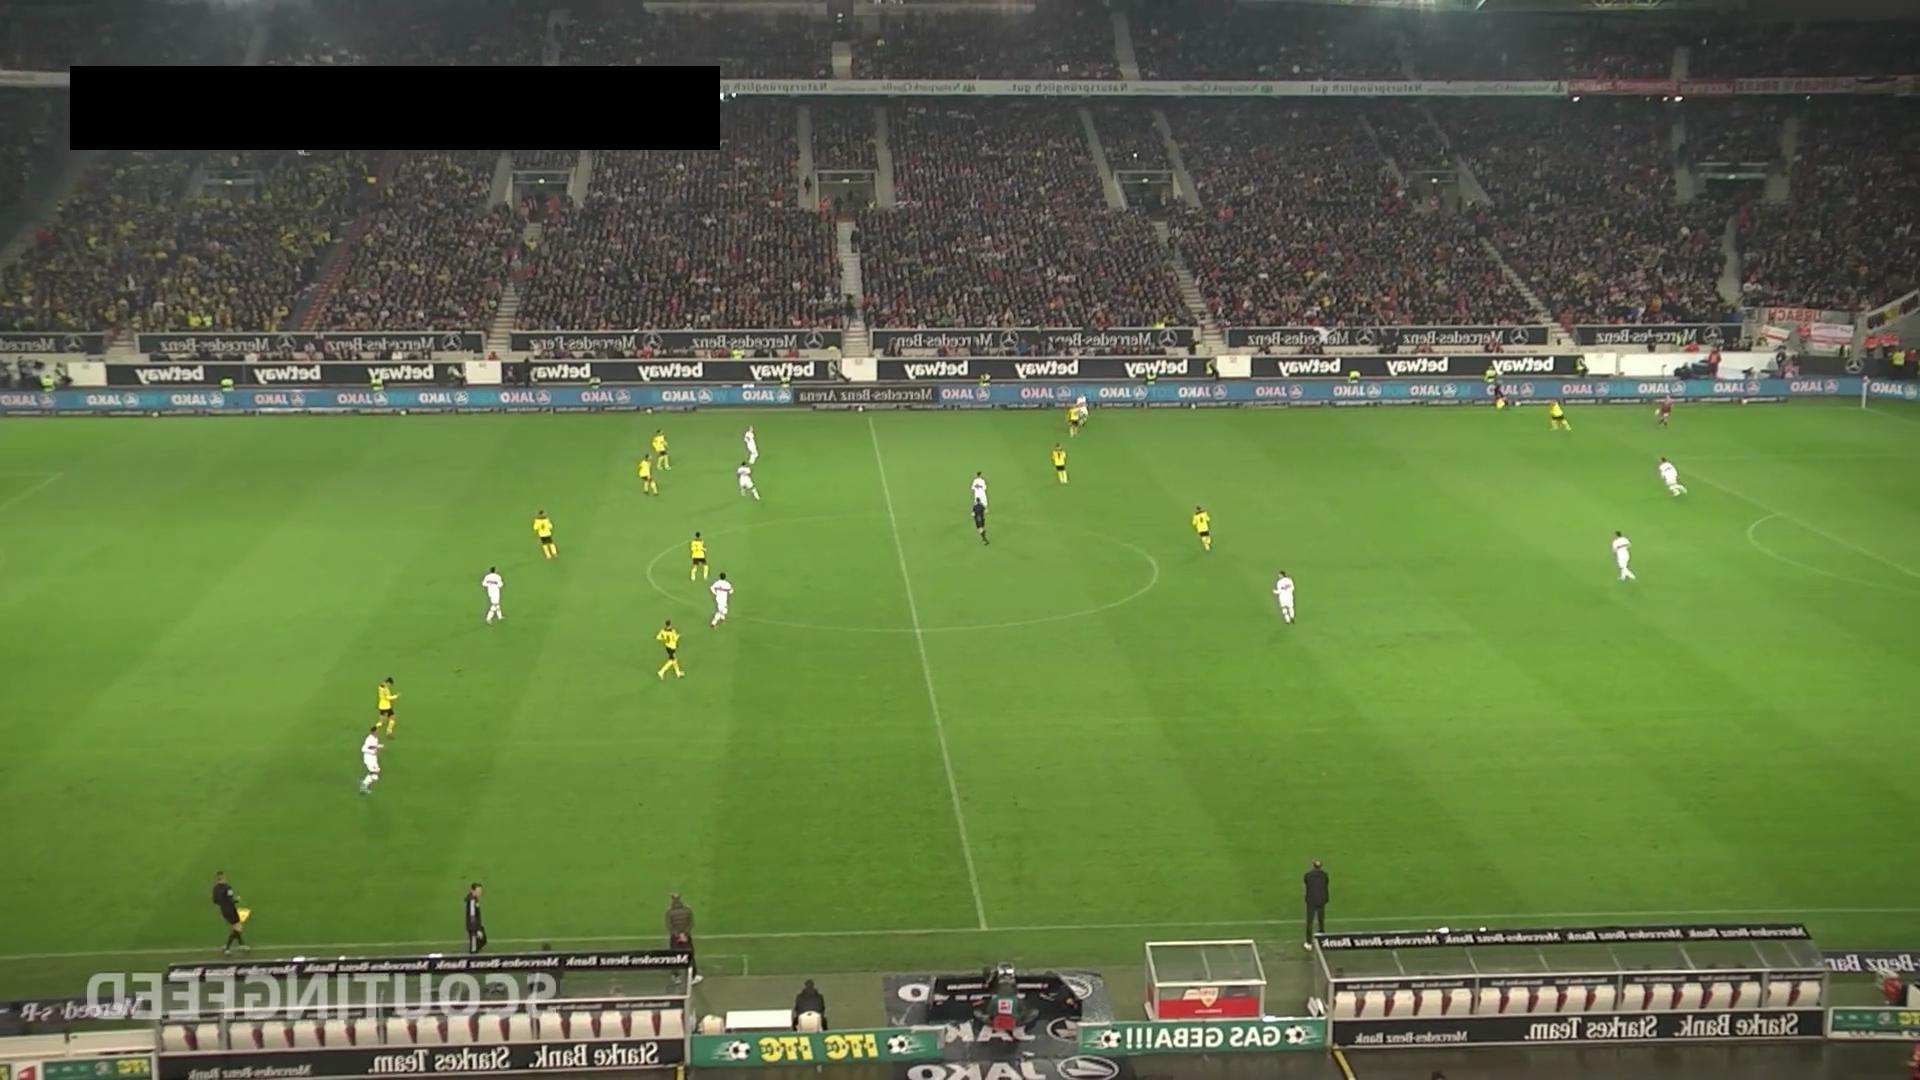player: (655, 618, 685, 680), (359, 724, 384, 795), (375, 676, 401, 738), (709, 571, 735, 629), (482, 565, 505, 624), (532, 509, 559, 559), (1273, 569, 1296, 624), (1612, 529, 1636, 581), (1657, 454, 1686, 496), (689, 530, 709, 583), (1191, 504, 1213, 551), (969, 468, 990, 514), (737, 462, 761, 501), (650, 427, 670, 470), (1050, 441, 1069, 485), (637, 453, 657, 494), (1548, 399, 1572, 431), (742, 425, 759, 466), (1654, 394, 1673, 427), (1066, 403, 1081, 438), (1076, 393, 1088, 427)
referee: (211, 869, 251, 954), (969, 496, 990, 544), (1490, 376, 1508, 409)
